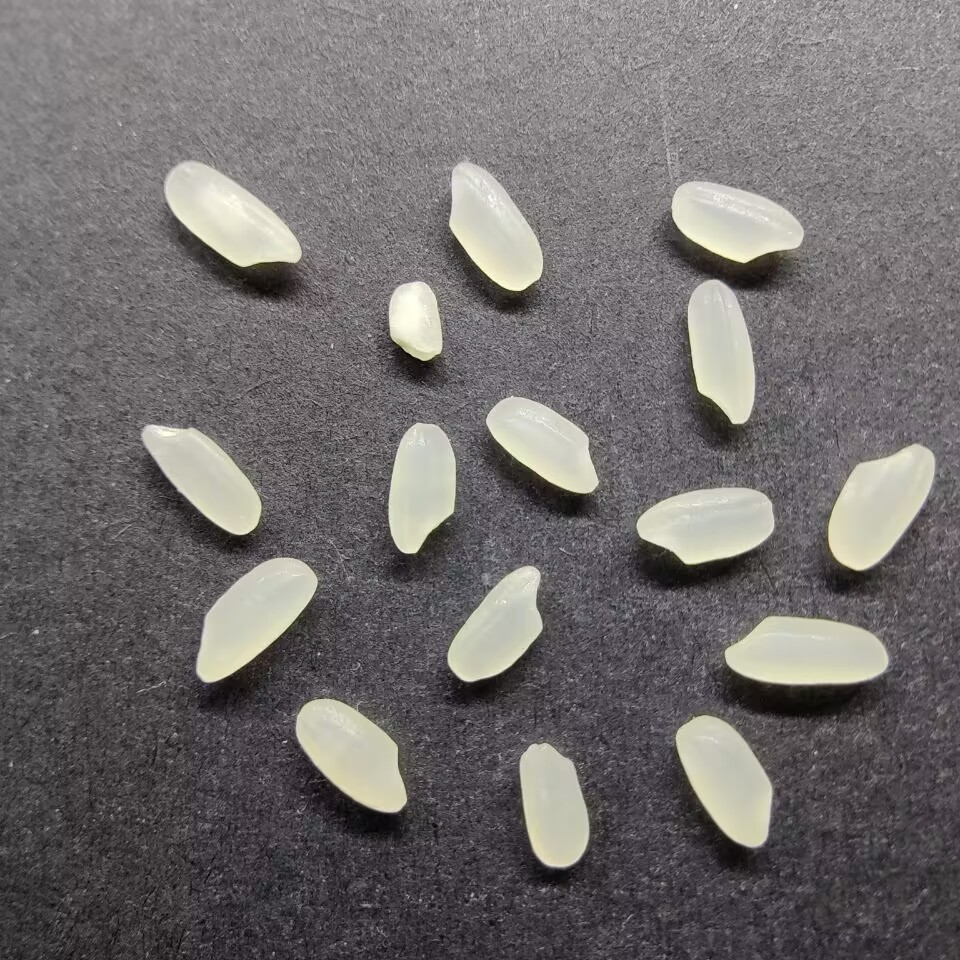broken: (387, 279, 441, 362)
rice: (192, 556, 319, 683), (163, 159, 302, 268), (139, 419, 262, 538), (825, 441, 936, 572), (292, 697, 409, 815), (673, 714, 775, 849), (445, 158, 546, 293), (720, 613, 891, 686), (445, 561, 544, 684), (485, 393, 599, 498), (668, 179, 805, 263), (635, 485, 774, 566), (684, 279, 757, 426), (386, 421, 457, 555), (517, 741, 591, 868)
